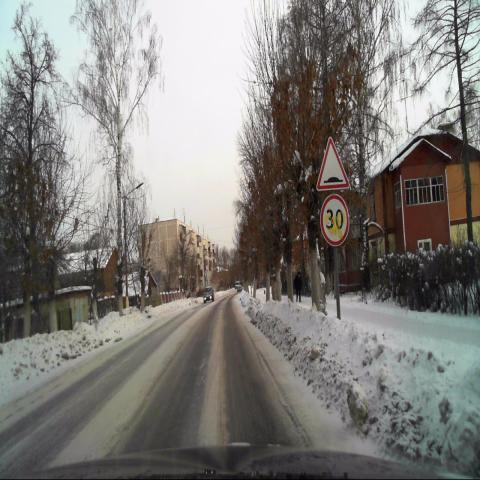1_17: (317, 135, 349, 194)
